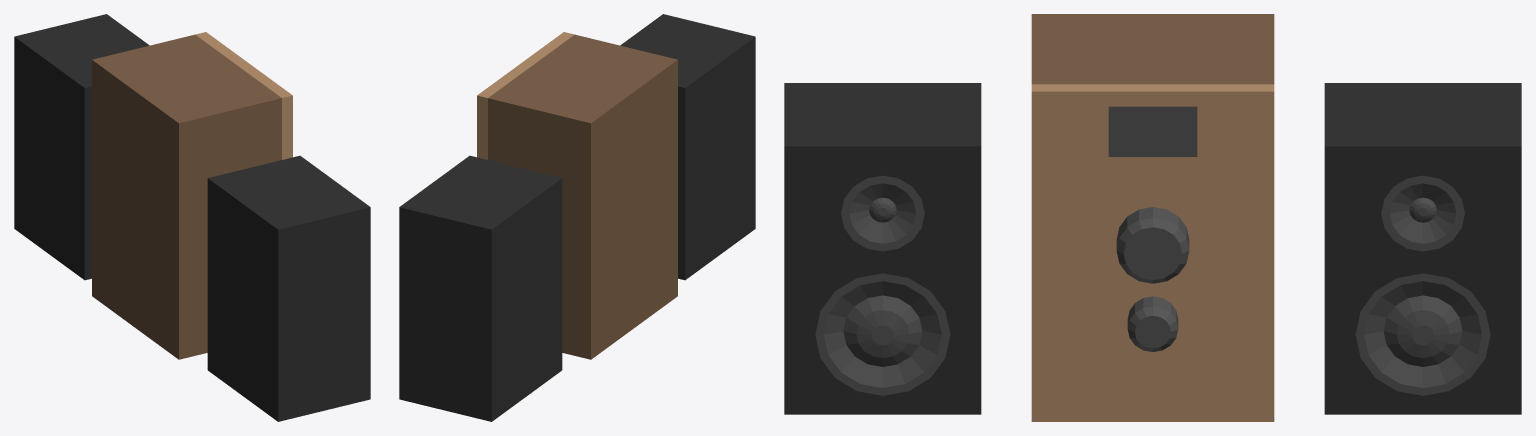
The model's file is Speaker01.glb.
3 views of the same model, side by side, from view 1: azimuth 30°, elevation 25°; view 2: azimuth 150°, elevation 25°; view 3: azimuth 270°, elevation 25° (orthographic). The views are drawn at different scales.
Parts seen in each view (by area): view 1: HIFI_Stereo; view 2: HIFI_Stereo; view 3: HIFI_Stereo.
Boxes of the visible parts, x1,y1,x2,y2 form: HIFI_Stereo: (14, 14, 370, 421); HIFI_Stereo: (399, 14, 755, 421); HIFI_Stereo: (784, 14, 1521, 421).
Bounding box in the file's own units: 23.53 × 39.58 × 80.06.
1 material, 1 textured.
